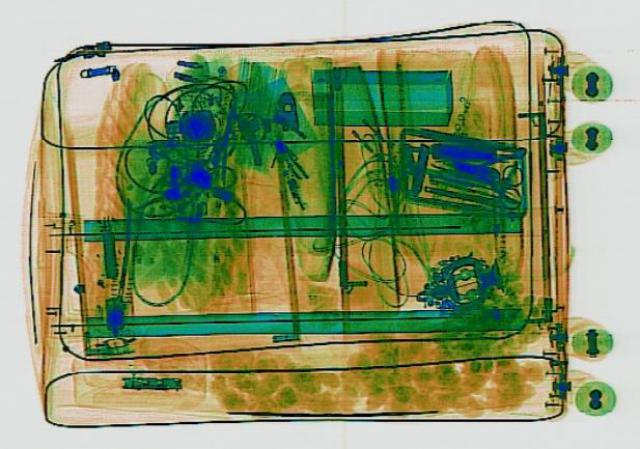Scissors: (418, 144, 542, 210)
